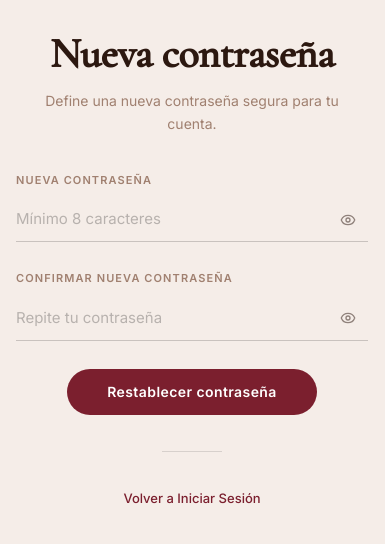
Test: RecuperarContrasena › passwords diferentes muestran error
Type "NuevaPassword123" into the password field labelled "Nueva contraseña" at coordinates (192, 220), box [16,197,368,242]
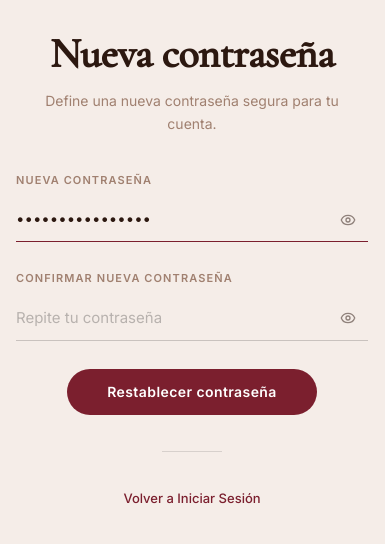
Type "OtraPassword123" into the password field labelled "Confirmar nueva contraseña" at coordinates (192, 318), box [16,296,368,341]
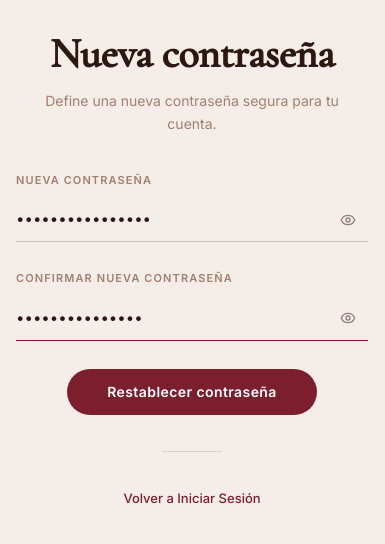
Click the button "Restablecer contraseña" at coordinates (192, 392), box [67,369,317,415]
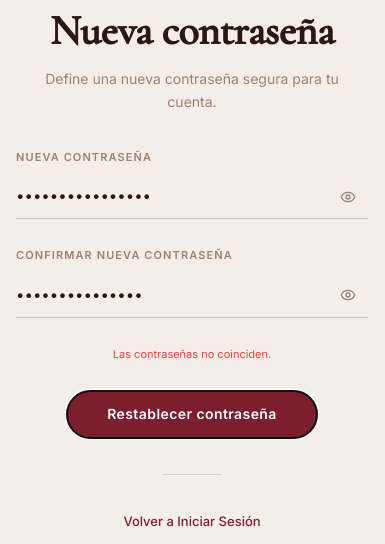
Check: the text "Las contraseñas no coinciden." is shown, box [113,346,271,364]
